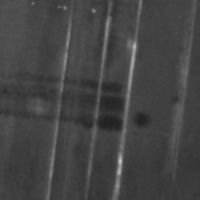inclusion: (2, 66, 131, 135)
scratches: (107, 2, 147, 199), (41, 0, 78, 199), (81, 0, 116, 172), (166, 14, 199, 182)
